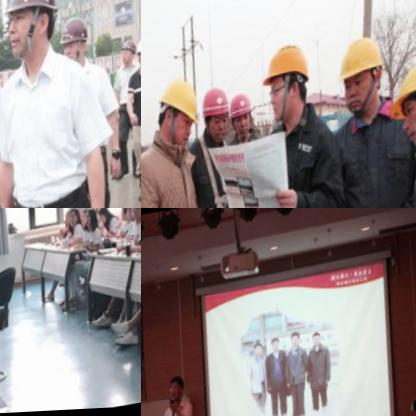head: (168, 378, 188, 404), (85, 208, 99, 231), (98, 208, 114, 226), (68, 208, 82, 226), (80, 208, 92, 226), (126, 208, 138, 222), (120, 208, 132, 220), (131, 208, 141, 221)
helmet: (253, 37, 323, 137), (330, 30, 395, 122), (150, 70, 208, 157), (0, 0, 68, 68), (197, 81, 239, 150), (386, 57, 416, 153), (57, 11, 98, 71), (227, 90, 262, 142), (118, 40, 140, 72), (135, 34, 141, 72)
